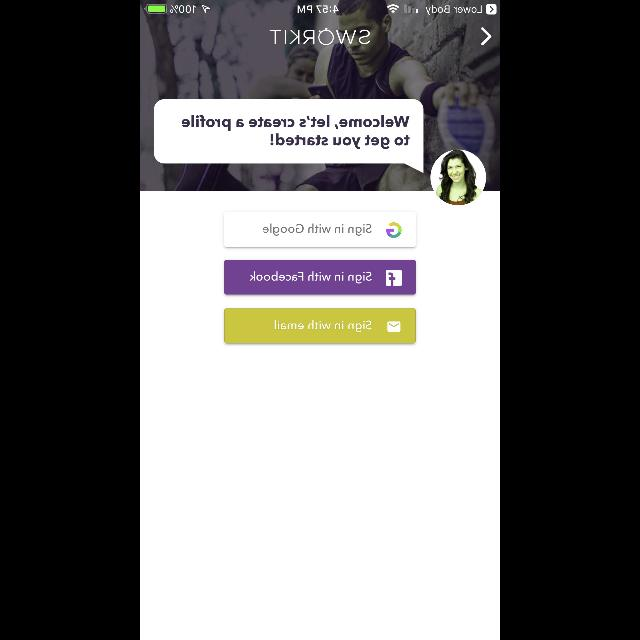icon: (481, 28, 491, 46)
image: (140, 0, 500, 192), (430, 150, 486, 206), (270, 28, 370, 44)
text: (182, 114, 410, 150)
textbutton: (224, 308, 416, 344), (224, 212, 416, 246), (224, 260, 416, 294)
uppertaskbar: (140, 1, 500, 16)
